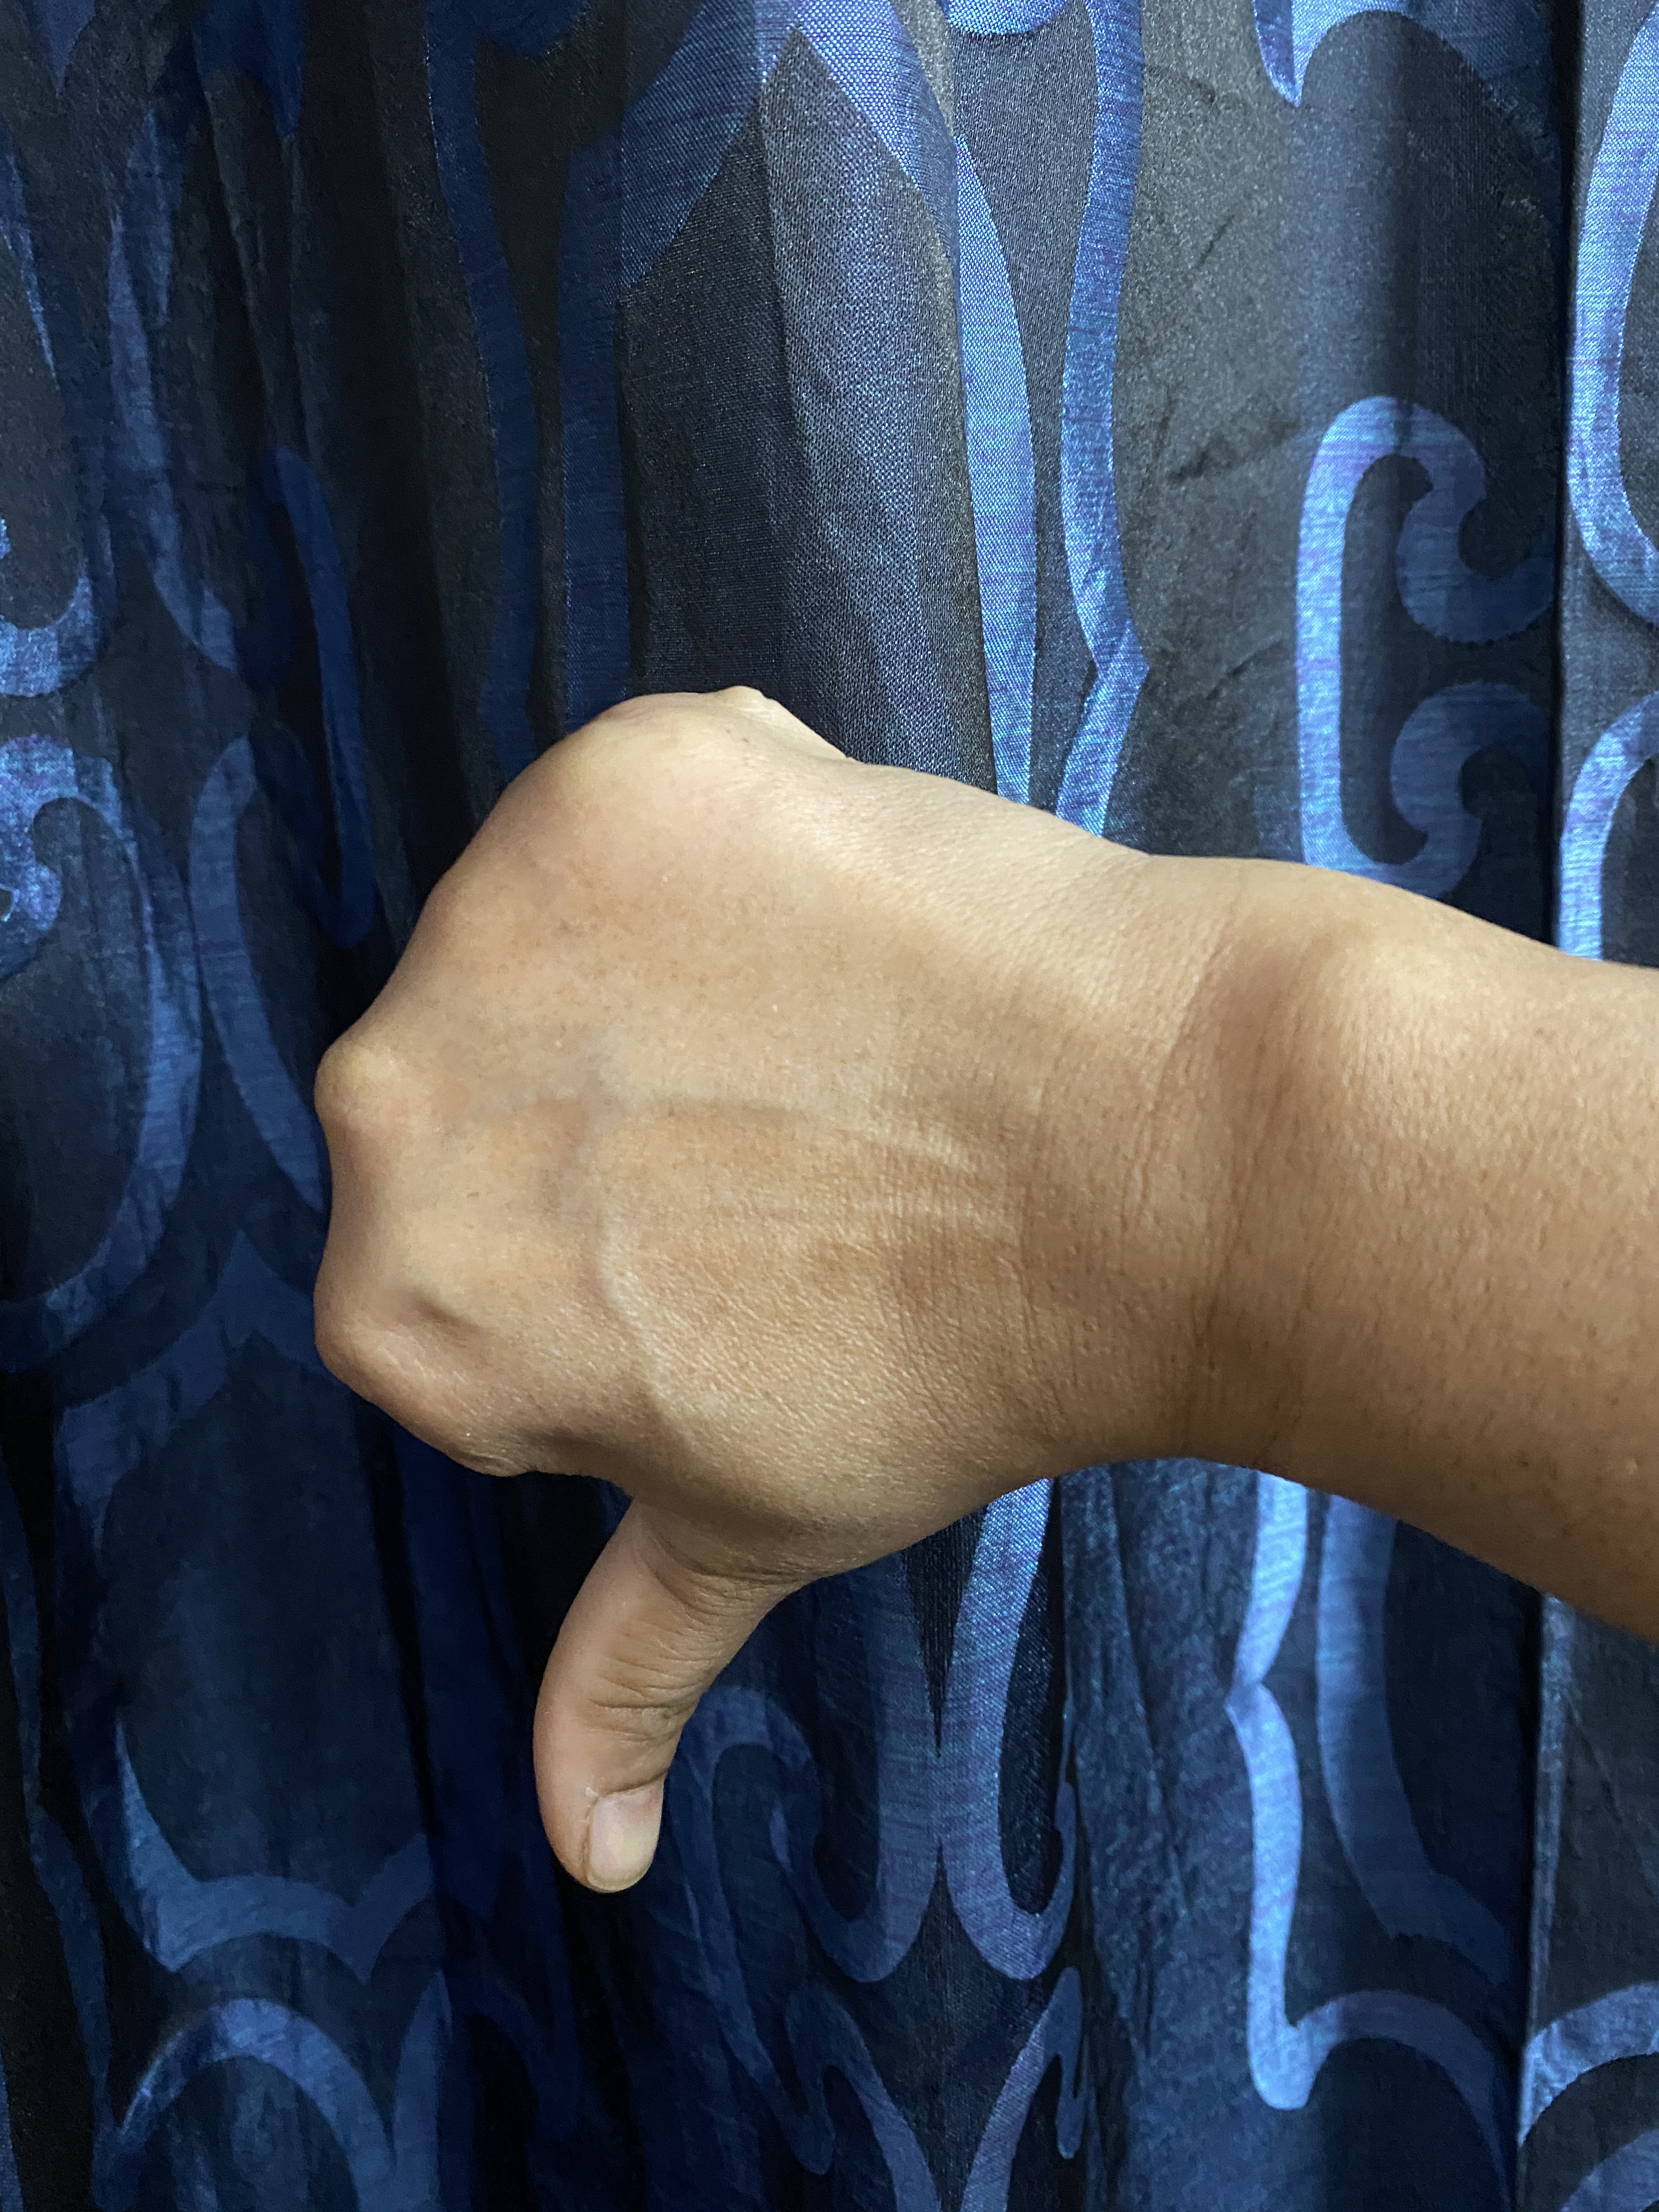down: (237, 627, 1659, 1907)
